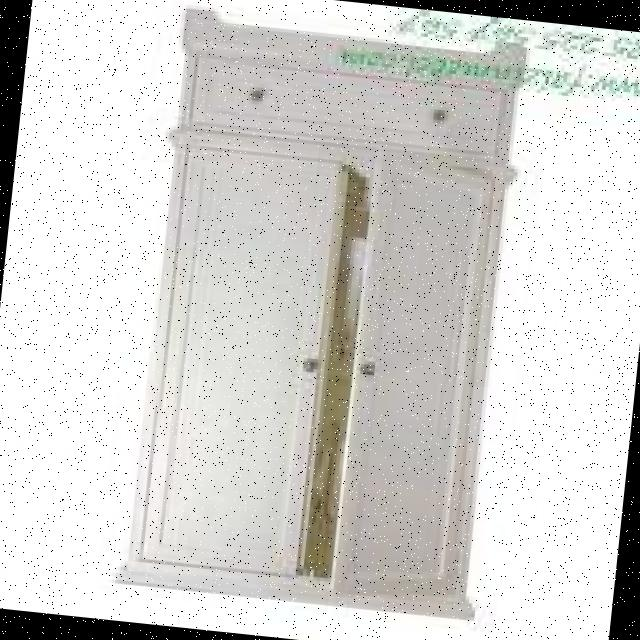Closet: (110, 0, 545, 631)
